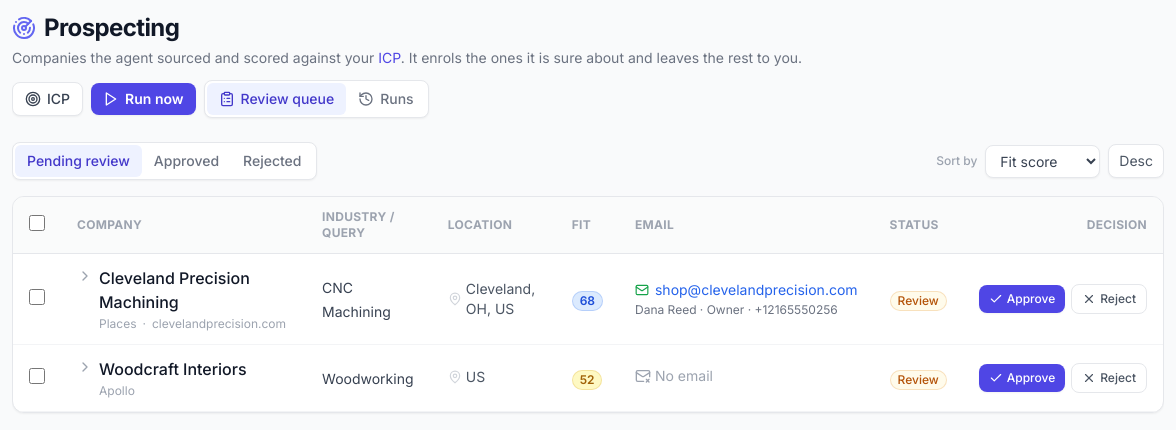
Test case: Prospecting page › surfaces a failed run error
Click the button "Runs" at (386, 99), box [346,83,426,115]
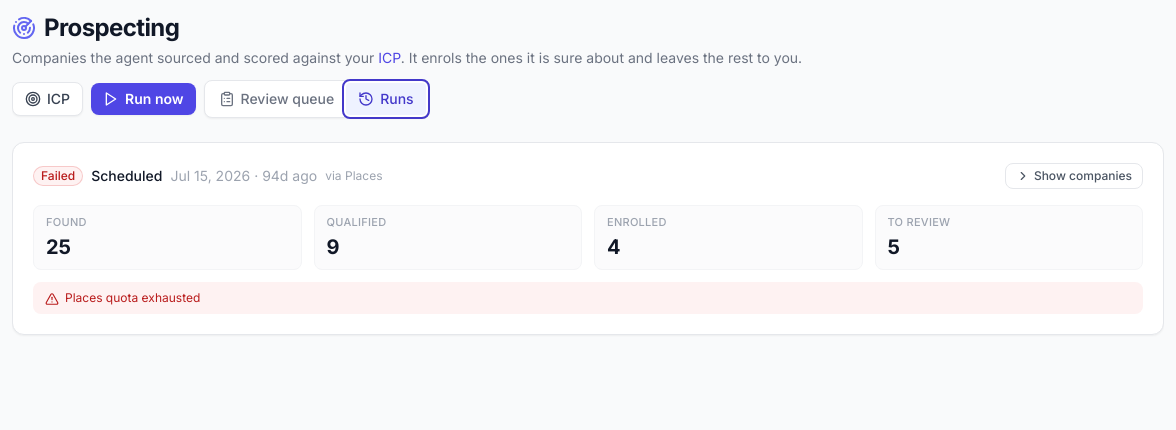
Check: the text "Places quota exhausted" is shown, box [65,290,200,306]
